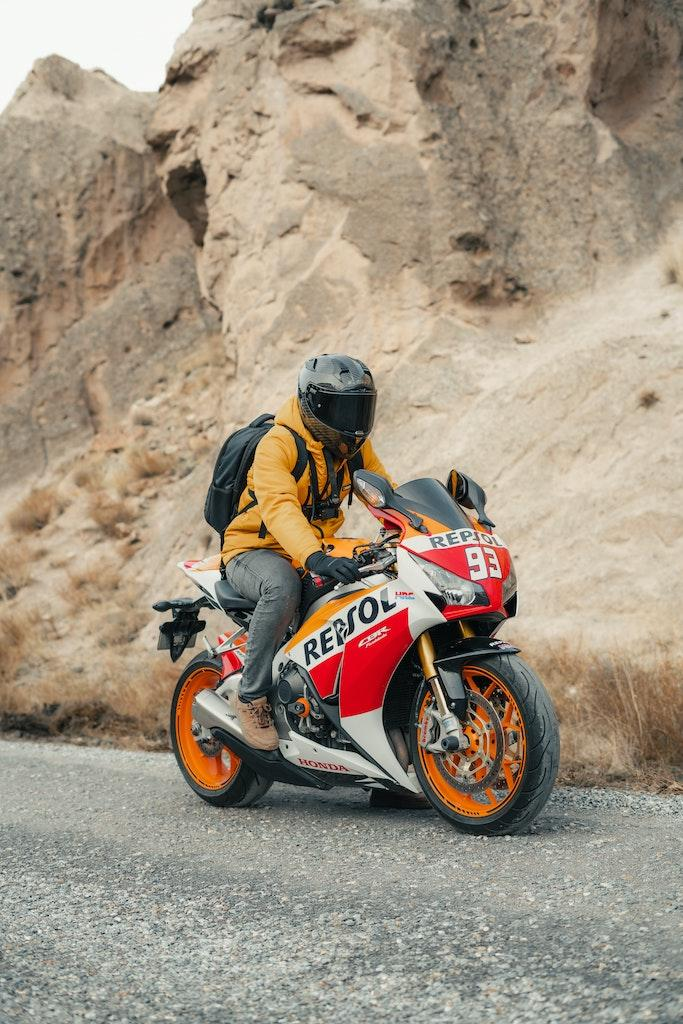helmet: (295, 352, 378, 461)
